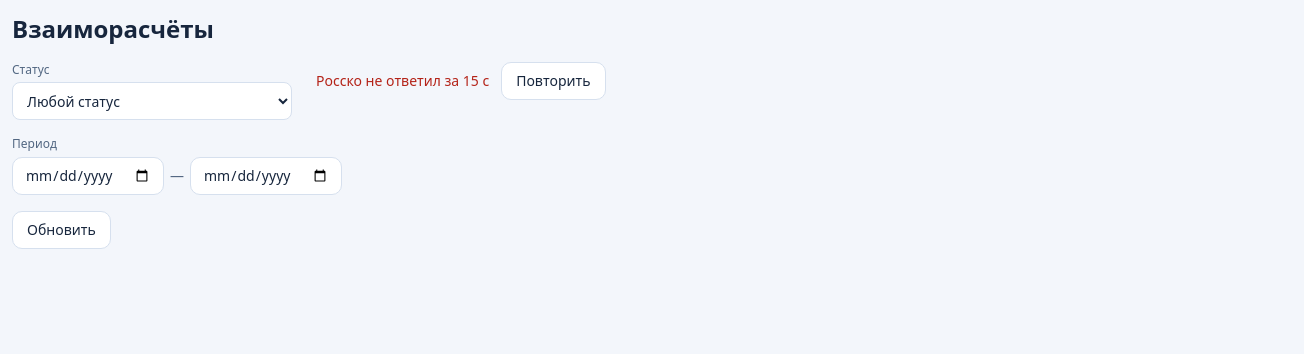
SettlementsPage › shows the Rossko error with a retry button
Expected: the text "Росско не ответил за 15 с" is shown, [316,71,489,90]
Click the button "Повторить" at (553, 81), box [501,62,606,100]
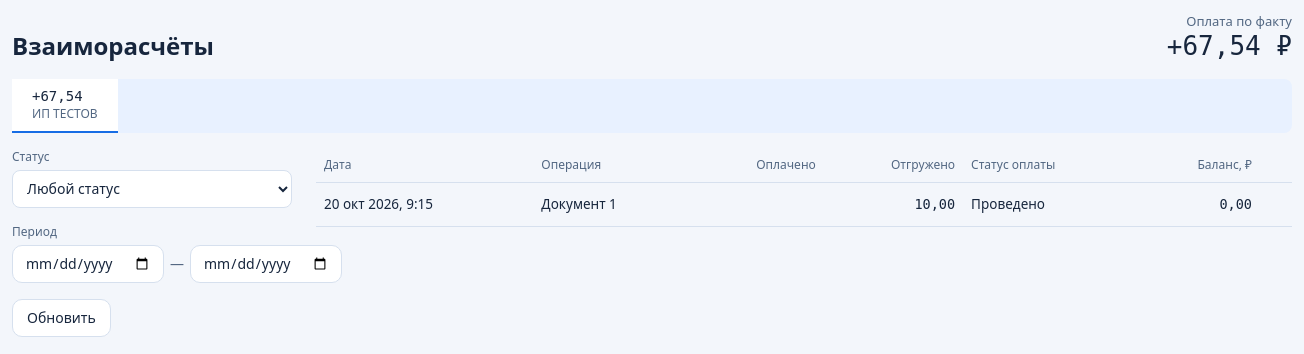
Now the text "Документ 1" is shown, box [533,182,692,226]
